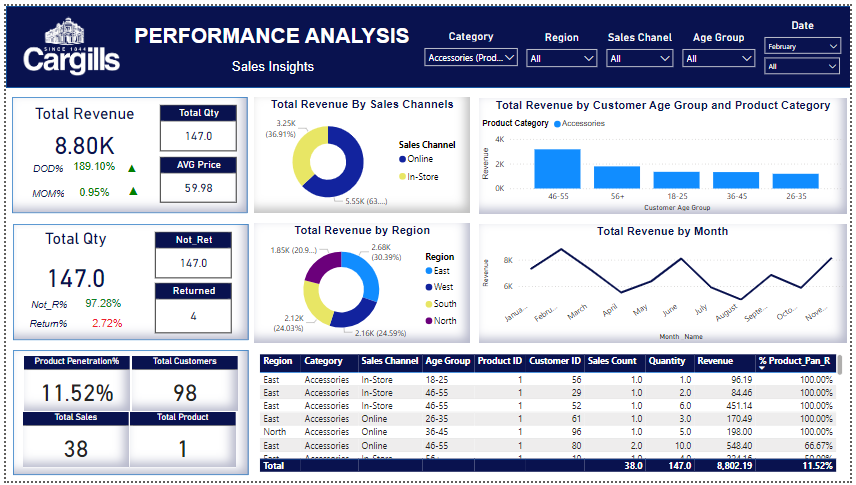

Layout of this report page (visuals, bound fields, positions):
{"tool":"powerbi","page":{"name":" Insights-1","canvas":[1280,720],"ordinal":0},"visuals":[{"type":"slicer","fields":{"Values":["DOD%.Day_Name"]},"box":[1139.2,67.2,134.3,40.3],"z":0,"group":"g1"},{"type":"shape","box":[10.4,520.9,356.7,189.6],"z":0},{"type":"card","title":"Product Penetration%","fields":{"Values":["Ret_Update.% Product_Pan_R"]},"box":[27.8,529.9,159.7,83.6],"z":0,"group":"g2"},{"type":"shape","box":[10.4,329.9,356.7,176.1],"z":1000},{"type":"card","title":"Total Customers","fields":{"Values":["CountNonNull(Customer_ ID.Customer ID)"]},"box":[190.5,529.9,159.7,83.6],"z":1000,"group":"g2"},{"type":"shape","box":[9,137.3,356.7,176.1],"z":2000},{"type":"card","title":"Total Sales","fields":{"Values":["CountNonNull(Ret_Update.Product ID)"]},"box":[25.9,614.5,159.7,83.6],"z":2000,"group":"g2"},{"type":"shape","box":[0,0,1280.6,123.9],"z":3000},{"type":"card","title":"Total Product","fields":{"Values":["CountNonNull(Product ID.Product ID)"]},"box":[188.6,614.5,159.7,83.6],"z":3000,"group":"g2"},{"type":"slicer","title":"Sales Chanel","fields":{"Values":["Ret_Update.Sales Channel"]},"box":[900,35.8,120.9,59.7],"z":4000},{"type":"card","title":"Total Qty","fields":{"Values":["Sum(Ret_Update.Quantity)"]},"box":[16.4,337.9,177.6,114.9],"z":4000,"group":"g3"},{"type":"image","box":[0,0,192.5,123.9],"z":5000},{"type":"card","fields":{"Values":["DOD%.Sum_DOD"]},"box":[77.1,228.3,111.9,32.8],"z":5000,"group":"g5"},{"type":"textbox","box":[189.6,22.4,501.5,56.7],"z":6000},{"type":"card","title":"Total Revenue","fields":{"Values":["Sum(Ret_Update.Total Price)"]},"box":[29.9,148.3,177.6,91],"z":6000,"group":"g4"},{"type":"card","fields":{"Values":["DOD%.DOD_Icon"]},"box":[168.7,228.3,41.8,35.8],"z":6000,"group":"g5"},{"type":"card","fields":{"Values":["Ret_Update.Percentage of Products Not Returned"]},"box":[107.4,434.9,79.1,35.8],"z":6000,"group":"g8"},{"type":"slicer","title":"Region","fields":{"Values":["Ret_Update.Region"]},"box":[779.1,35.8,126.9,59.7],"z":7000},{"type":"card","fields":{"Values":["MOM%.Sum_MOM%"]},"box":[98,264.1,70.1,37.3],"z":7000,"group":"g6"},{"type":"shape","box":[25.4,467.8,76.1,25.4],"z":7000,"group":"g7"},{"type":"slicer","title":"Category","fields":{"Values":["Ret_Update.Product Category","Product ID.Product ID"]},"box":[623.9,34.3,161.2,59.7],"z":8000},{"type":"card","fields":{"Values":["MOM%.MOM_Icon"]},"box":[177.1,262.2,31.3,37.3],"z":8000,"group":"g6"},{"type":"shape","box":[250.7,67.2,309,50.7],"z":9000},{"type":"shape","box":[25.4,233.4,76.1,25.4],"z":9000,"group":"g5"},{"type":"card","title":"Not_Ret","fields":{"Values":["Ret_Update.Total Products Not Returned"]},"box":[225.4,342.4,116.4,70.1],"z":9000,"group":"g3"},{"type":"slicer","title":"Age Group","fields":{"Values":["Ret_Update.Customer Age Group"]},"box":[1014.9,35.8,129.9,67.2],"z":10000},{"type":"shape","box":[25.4,270.7,76.1,26.9],"z":10000,"group":"g6"},{"type":"group","id":"g1","title":"Group 5","box":[1139.2,17.9,135.8,89.6],"z":11000},{"type":"card","title":"Returned","fields":{"Values":["Ret_Update.Total Products Returned"]},"box":[225.4,420,116.4,76.1],"z":11000,"group":"g3"},{"type":"group","id":"g2","title":"Group 6","box":[25.9,529.9,324.3,168.2],"z":12000},{"type":"group","id":"g3","title":"Group 7","box":[16.4,337.9,325.4,162.7],"z":13000},{"type":"group","id":"g4","title":"Group 8","box":[25.4,148.3,323.9,153.1],"z":14000},{"type":"card","title":"Total Qty","fields":{"Values":["Sum(Ret_Update.Quantity)"]},"box":[232.9,149.8,116.4,70.1],"z":15000,"group":"g4"},{"type":"lineChart","title":"Total Revenue by Month ","fields":{"Category":["Ret_Update.Month _Name"],"Y":["Sum(Ret_Update.Total Price)"]},"box":[716.4,329.9,556.7,180.6],"z":15000},{"type":"group","id":"g5","title":"Group 1","box":[25.4,228.3,185.1,35.8],"z":15001,"group":"g6"},{"type":"donutChart","title":"Total Revenue By Sales Channels","fields":{"Category":["Ret_Update.Sales Channel"],"Y":["Sum(Ret_Update.Total Price)"]},"box":[376.1,137.3,328.4,176.1],"z":16000},{"type":"card","title":"AVG Price ","fields":{"Values":["Avg(Ret_Update.Price per Unit)"]},"box":[232.9,228.9,116.4,68.7],"z":16000,"group":"g4"},{"type":"shape","box":[26.8,439.4,76.1,25.4],"z":16000,"group":"g8"},{"type":"clusteredColumnChart","title":"Total Revenue by Customer Age Group and Product Category","fields":{"Category":["Ret_Update.Customer Age Group"],"Y":["Sum(Ret_Update.Total Price)"],"Series":["Ret_Update.Product Category"]},"box":[716.4,138.8,558.2,176.1],"z":17000},{"type":"group","id":"g6","title":"Group 3","box":[25.4,228.3,185.1,73.1],"z":17000,"group":"g4"},{"type":"donutChart","title":"Total Revenue by Region","fields":{"Category":["Ret_Update.Region"],"Y":["Sum(Ret_Update.Total Price)"]},"box":[376.1,328.4,328.4,182.1],"z":18000},{"type":"group","id":"g7","title":"Group 2","box":[25.4,464.8,167.2,35.8],"z":18000,"group":"g3"},{"type":"card","fields":{"Values":["Ret_Update.Percentage of Products Returned"]},"box":[113.5,464.8,79.1,35.8],"z":18000,"group":"g7"},{"type":"group","id":"g8","title":"Group 4","box":[26.8,434.9,159.7,35.8],"z":19000,"group":"g3"},{"type":"tableEx","title":"Summary","fields":{"Values":["Ret_Update.Region","Ret_Update.Product Category","Ret_Update.Sales Channel","Ret_Update.Customer Age Group","Product ID.Product ID","Ret_Update.Customer ID","Ret_Update.Count_Invoice","Sum(Ret_Update.Quantity)","Ret_Update.T_Price","Ret_Update.% Product_Pan_R"]},"box":[379.1,522.4,894,188.1],"z":19000},{"type":"slicer","title":"Date","fields":{"Values":["MOM%.Month _Name"]},"box":[1139.2,17.9,135.8,64.2],"z":21000,"group":"g1"}]}

Visuals, with their boxes in screenshot pixels (x1, y1, x2, y2), scaled from the page's 1280x720 canvas onto the 856x485 screenshot:
slicer - DOD%.Day_Name: 762, 45, 852, 72
shape: 7, 351, 245, 479
"Product Penetration%" card: 19, 357, 125, 413
shape: 7, 222, 245, 341
"Total Customers" card: 127, 357, 234, 413
shape: 6, 92, 245, 211
"Total Sales" card: 17, 414, 124, 470
shape: 0, 0, 855, 83
"Total Product" card: 126, 414, 233, 470
"Sales Chanel" slicer: 602, 24, 683, 64
"Total Qty" card: 11, 228, 130, 305
image: 0, 0, 129, 83
card - DOD%.Sum_DOD: 52, 154, 126, 176
textbox: 127, 15, 462, 53
"Total Revenue" card: 20, 100, 139, 161
card - DOD%.DOD_Icon: 113, 154, 141, 178
card - Ret_Update.Percentage of Products Not Returned: 72, 293, 125, 317
"Region" slicer: 521, 24, 606, 64
card - MOM%.Sum_MOM%: 66, 178, 112, 203
shape: 17, 315, 68, 332
"Category" slicer: 417, 23, 525, 63
card - MOM%.MOM_Icon: 118, 177, 139, 202
shape: 168, 45, 374, 79
shape: 17, 157, 68, 174
"Not_Ret" card: 151, 231, 229, 278
"Age Group" slicer: 679, 24, 766, 69
shape: 17, 182, 68, 200
"Group 5" group: 762, 12, 853, 72
"Returned" card: 151, 283, 229, 334
"Group 6" group: 17, 357, 234, 470
"Group 7" group: 11, 228, 229, 337
"Group 8" group: 17, 100, 234, 203
"Total Qty" card: 156, 101, 234, 148
"Total Revenue by Month " lineChart: 479, 222, 851, 344
"Group 1" group: 17, 154, 141, 178
"Total Revenue By Sales Channels" donutChart: 252, 92, 471, 211
"AVG Price " card: 156, 154, 234, 200
shape: 18, 296, 69, 313
"Total Revenue by Customer Age Group and Product Category" clusteredColumnChart: 479, 93, 852, 212
"Group 3" group: 17, 154, 141, 203
"Total Revenue by Region" donutChart: 252, 221, 471, 344
"Group 2" group: 17, 313, 129, 337
card - Ret_Update.Percentage of Products Returned: 76, 313, 129, 337
"Group 4" group: 18, 293, 125, 317
"Summary" tableEx: 254, 352, 851, 479
"Date" slicer: 762, 12, 853, 55
